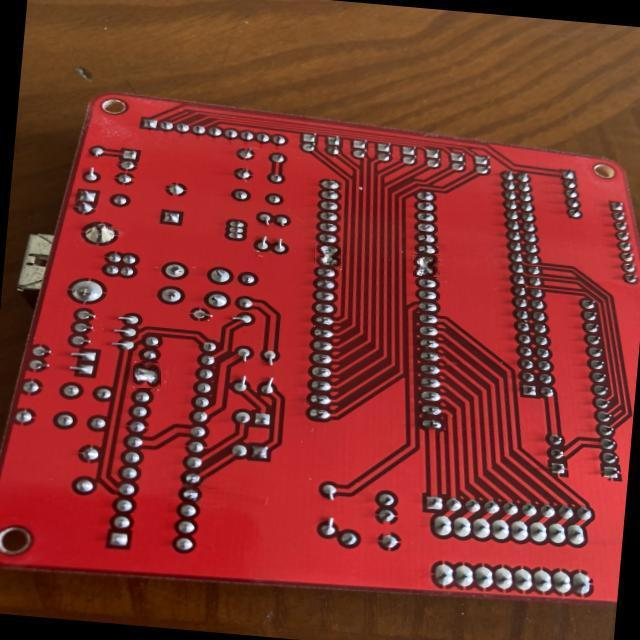damged: (133, 362, 161, 388), (314, 243, 341, 267), (414, 254, 439, 277)
